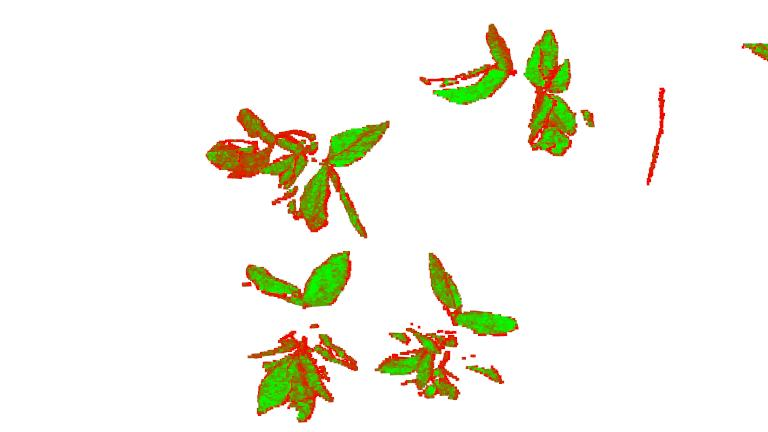mungbean: (196, 103, 391, 243), (424, 15, 589, 161), (369, 252, 519, 405), (250, 249, 360, 422)
